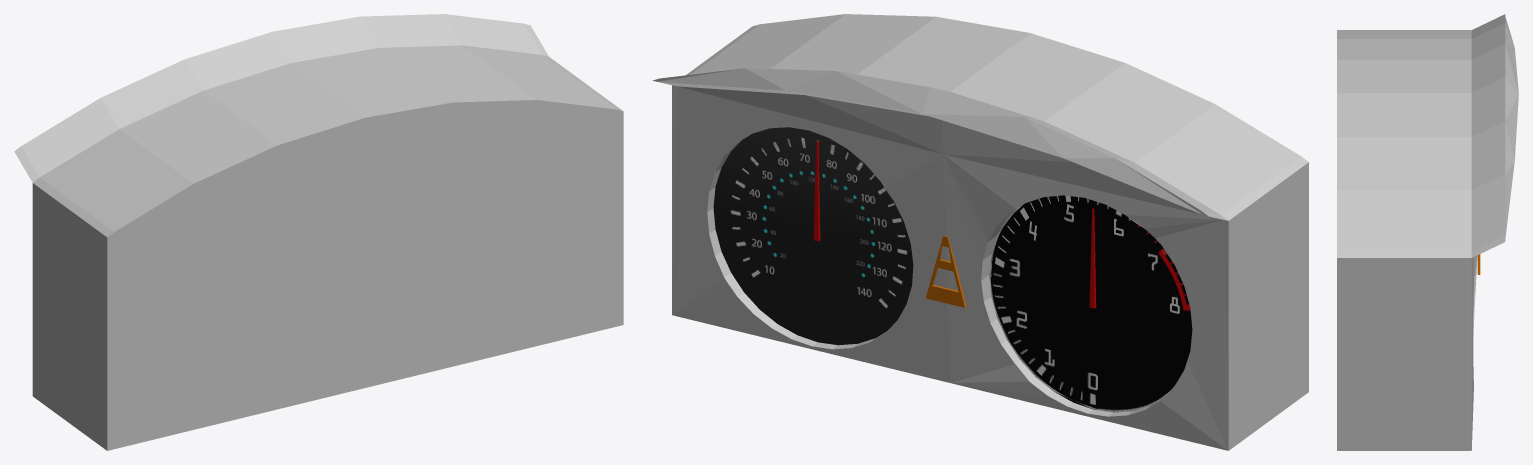
File: armaturka.obj
The picture shows the model from 3 angles, left to right: view 1: azimuth 30°, elevation 25°; view 2: azimuth 150°, elevation 25°; view 3: azimuth 270°, elevation 25°; orthographic projection. The views are drawn at different scales.
Visible parts, largest first — view 1: Armaturka; view 2: Armaturka, lucka_gradbisce; view 3: Armaturka.
Boxes of the visible parts, x1,y1,x2,y2 form: Armaturka: [14, 14, 623, 450]; Armaturka: [653, 14, 1308, 450]; lucka_gradbisce: [926, 236, 966, 307]; Armaturka: [1337, 14, 1518, 450].
Bounding box in the file's own units: 0.8 × 0.4264 × 0.27.
Materials: 5 (2 with a texture image).
